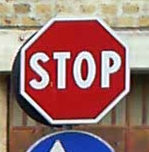stop: (15, 13, 131, 127)
